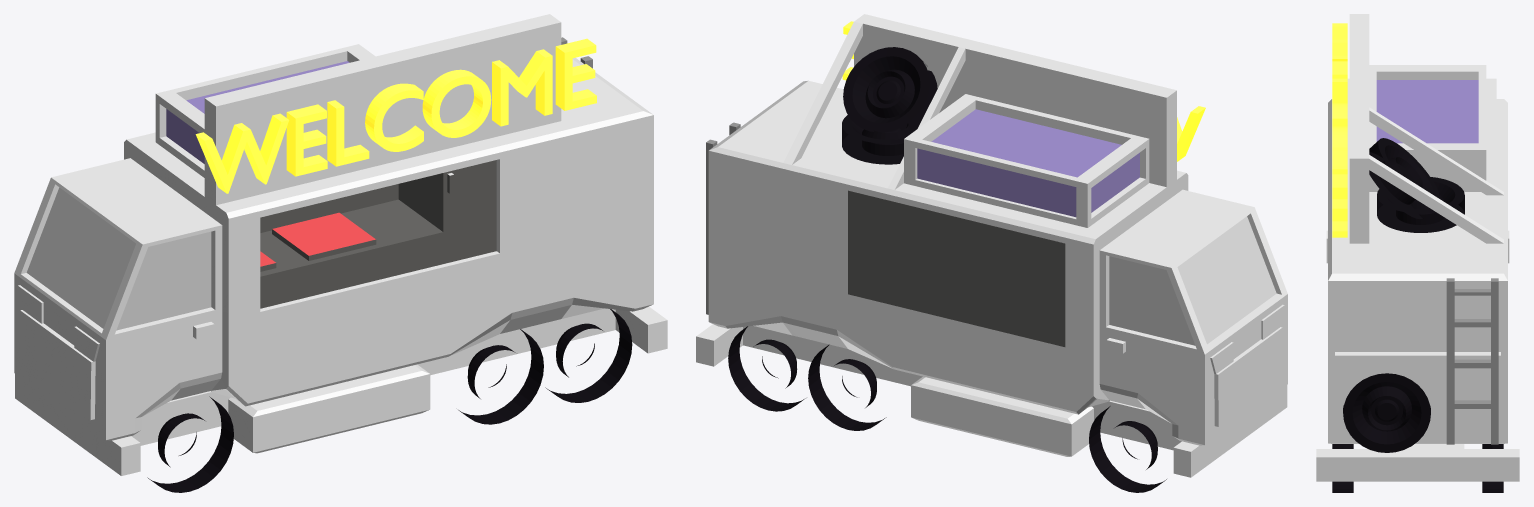
The model's file is foodTruck.gltf.
3 renders of one model, left to right at view 1: azimuth 30°, elevation 25°; view 2: azimuth 150°, elevation 25°; view 3: azimuth 270°, elevation 25°, orthographic. The views are drawn at different scales.
Parts seen in each view (by area): view 1: Food Truck; view 2: Food Truck; view 3: Food Truck.
Part boxes in pixels (left/top/right/bottom): Food Truck: left=14, top=14, right=667, bottom=492; Food Truck: left=696, top=14, right=1287, bottom=492; Food Truck: left=1316, top=14, right=1519, bottom=492.
Size of the model in its own units: 13.51 by 8.56 by 4.88.
